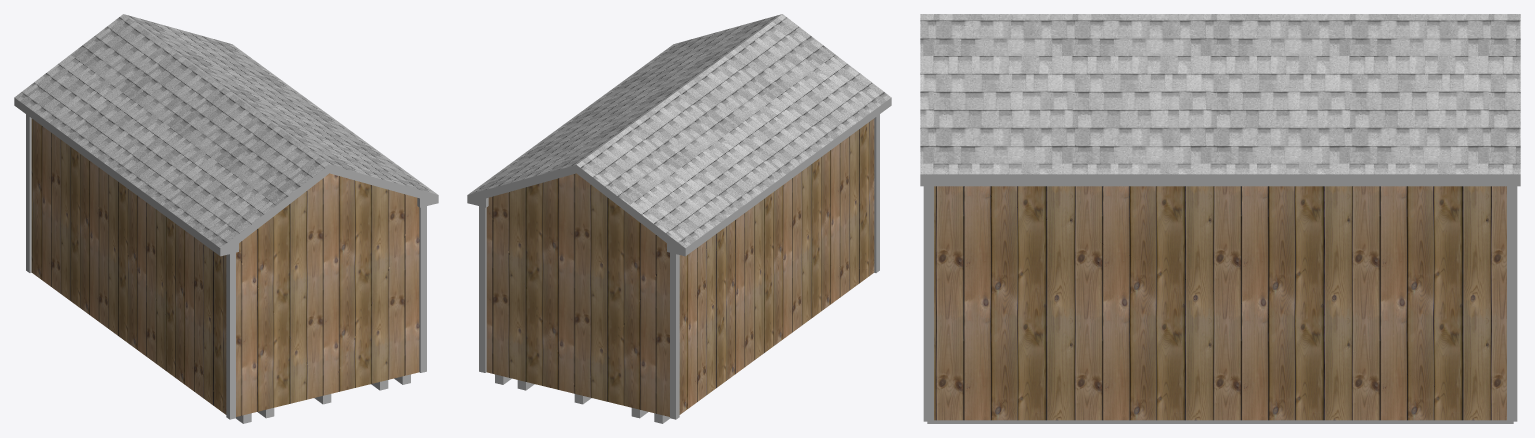
File: A-frame_8x14.obj
3 renders of one model, left to right at view 1: azimuth 30°, elevation 25°; view 2: azimuth 150°, elevation 25°; view 3: azimuth 270°, elevation 25°, orthographic. The views are drawn at different scales.
Visible parts, largest first — view 1: Shed, Roof, Sides, Trim, Floor; view 2: Shed, Roof, Sides, Trim, Floor; view 3: Shed, Roof, Sides, Trim, Floor.
Part boxes in pixels (bbox=[...]): Shed: bbox=[31, 118, 419, 416]; Roof: bbox=[14, 14, 437, 247]; Sides: bbox=[14, 97, 438, 256]; Trim: bbox=[26, 114, 426, 419]; Floor: bbox=[236, 374, 410, 423]; Shed: bbox=[486, 118, 874, 416]; Roof: bbox=[468, 14, 891, 247]; Sides: bbox=[467, 97, 891, 256]; Trim: bbox=[479, 114, 879, 419]; Floor: bbox=[495, 374, 669, 423]; Shed: bbox=[934, 186, 1506, 420]; Roof: bbox=[920, 14, 1520, 174]; Sides: bbox=[920, 174, 1520, 186]; Trim: bbox=[923, 186, 1517, 421]; Floor: bbox=[927, 420, 1513, 423].
Size of the model in its own units: 2.67 by 2.81 by 4.37.
